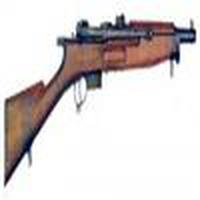gun: (2, 23, 199, 176)
